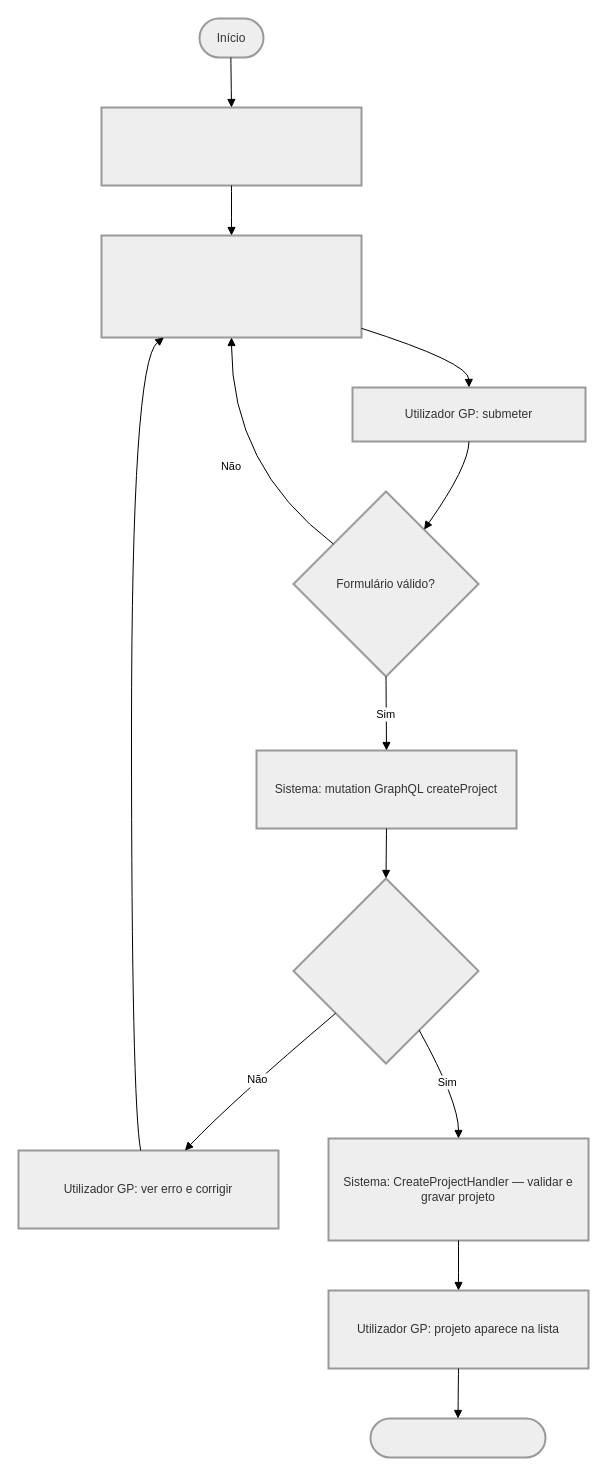
The diagram is 606 pixels wide and 1475 high, and some of its shapes have lost their labels. The centre of each missing label's shape, as x and y in pixels:
API aceita pedido?: pixel 385 970
Fim — projeto criado: pixel 457 1437
Utilizador GP: abrir ecrã de novo projeto: pixel 231 146
Utilizador GP: preencher título, datas, orçamento, equipa e gestor: pixel 231 286
